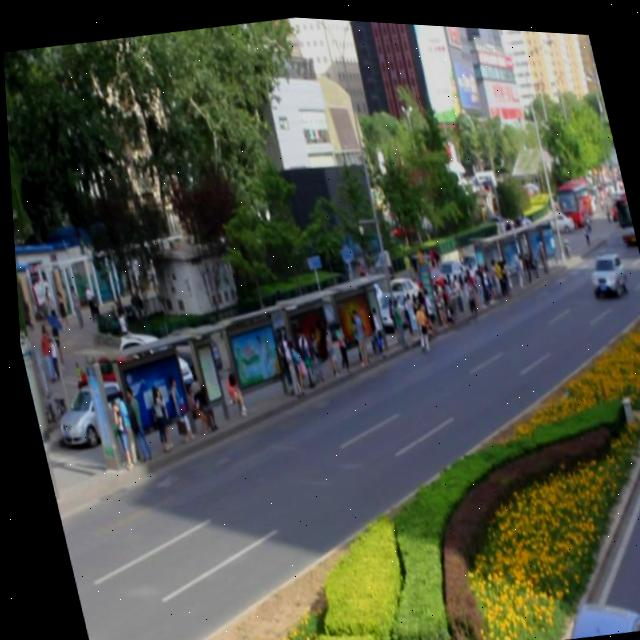car: (581, 242, 626, 294)
